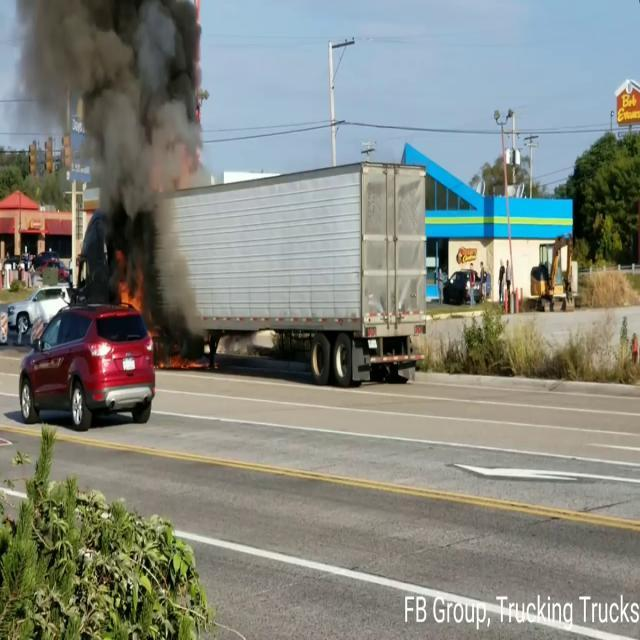Fire: (117, 270, 145, 318)
Smoke: (16, 0, 217, 340)
